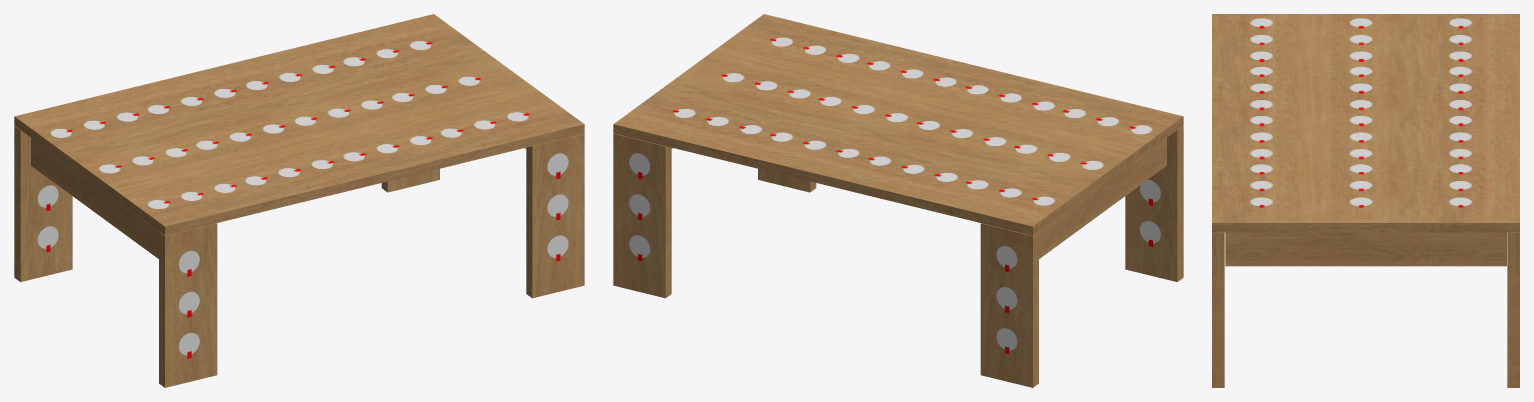
Rendered from teatable_test.dae.
3 renders of one model, left to right at view 1: azimuth 30°, elevation 25°; view 2: azimuth 150°, elevation 25°; view 3: azimuth 270°, elevation 25°, orthographic. The views are drawn at different scales.
Visible parts, largest first — view 1: gfsdgsdf; view 2: gfsdgsdf; view 3: gfsdgsdf.
Part boxes in pixels (x1,y1,x2,y2): gfsdgsdf: (14, 14, 584, 387); gfsdgsdf: (613, 14, 1183, 387); gfsdgsdf: (1212, 14, 1519, 387).
Bounding box in the file's own units: 92.92 × 34.15 × 57.78.
1 material, 1 textured.
